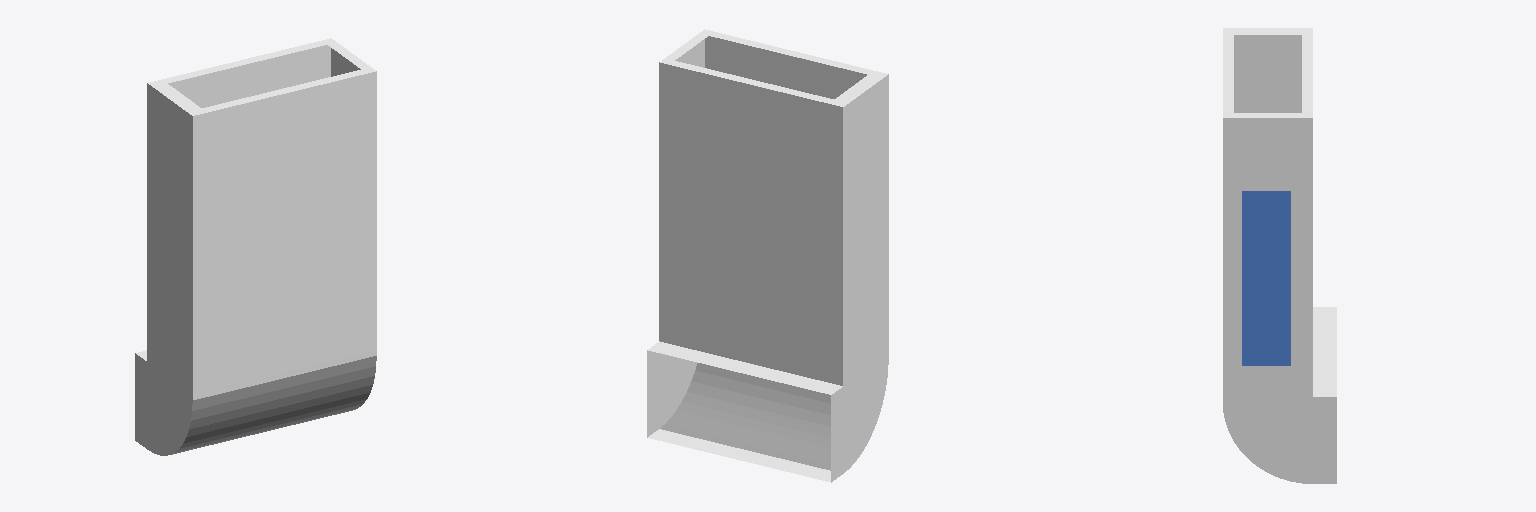
3 renders of one model, left to right at view 1: azimuth 30°, elevation 25°; view 2: azimuth 150°, elevation 25°; view 3: azimuth 270°, elevation 25°, orthographic.
Parts seen in each view (by area): view 1: Mesh1 Model; view 2: Mesh1 Model; view 3: Mesh1 Model.
Part boxes in pixels (bbox=[...]): Mesh1 Model: bbox=[135, 38, 376, 455]; Mesh1 Model: bbox=[647, 29, 888, 482]; Mesh1 Model: bbox=[1223, 28, 1336, 483].
Size of the model in its own units: 3.7 by 7.04 by 2.
4 materials, 1 textured.